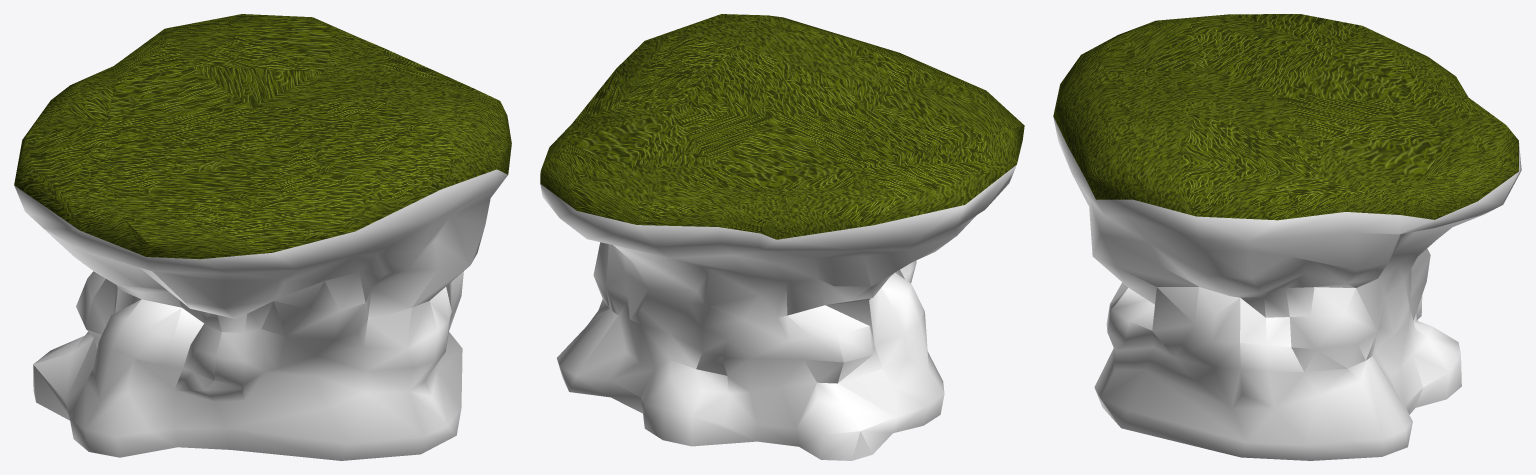
File: PlatformGrass4_LOD1.fbx
3 views of the same model, side by side, from view 1: azimuth 30°, elevation 25°; view 2: azimuth 150°, elevation 25°; view 3: azimuth 270°, elevation 25° (orthographic). The views are drawn at different scales.
Parts seen in each view (by area): view 1: Mesh; view 2: Mesh; view 3: Mesh.
Boxes of the visible parts, bbox=[...] form: Mesh: bbox=[14, 14, 511, 460]; Mesh: bbox=[540, 14, 1024, 460]; Mesh: bbox=[1053, 14, 1521, 460].
Bounding box in the file's own units: 1815 × 1261 × 1794.
